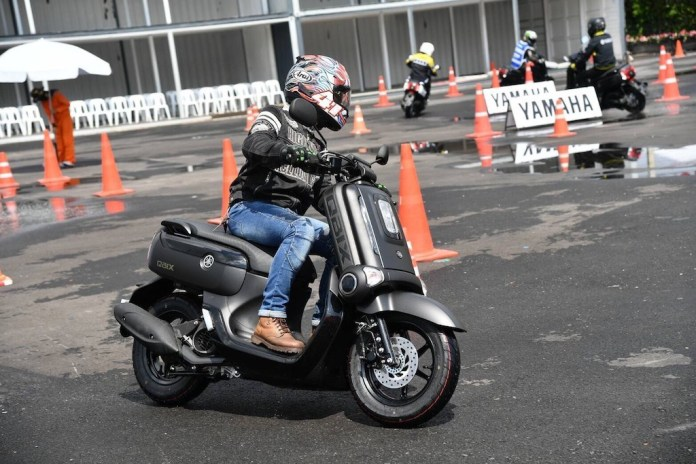helmet: (284, 53, 351, 132), (521, 26, 541, 50), (586, 17, 607, 38), (419, 38, 435, 59)
motorcycle: (116, 100, 461, 423), (562, 52, 651, 120), (402, 71, 432, 117)
